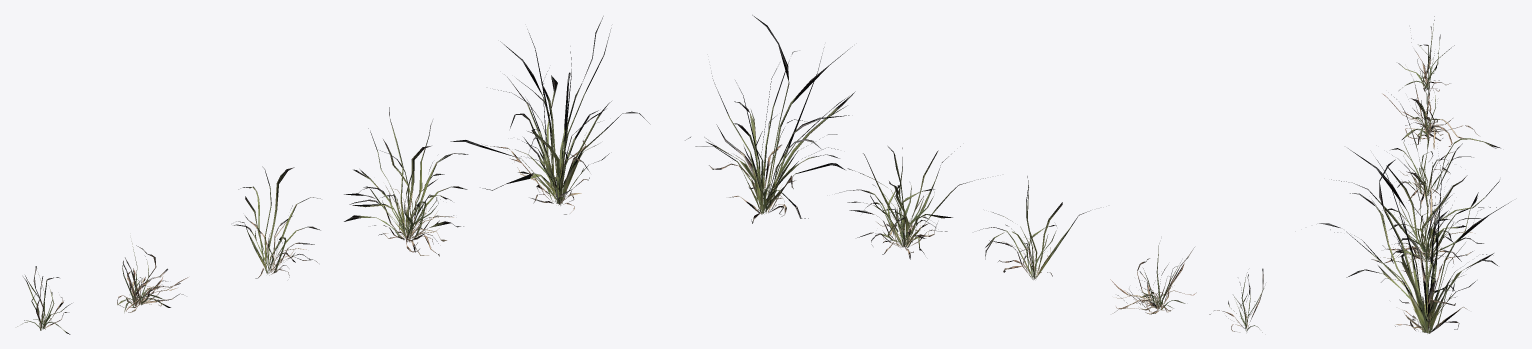
File: dry-grass.glb
3 views of the same model, side by side, from view 1: azimuth 30°, elevation 25°; view 2: azimuth 150°, elevation 25°; view 3: azimuth 270°, elevation 25° (orthographic). The views are drawn at different scales.
Visible parts, largest first — view 1: grass_medium_02_e, grass_medium_02_d, grass_medium_02_c, grass_medium_02_b, grass_medium_02_a; view 2: grass_medium_02_e, grass_medium_02_d, grass_medium_02_c, grass_medium_02_b, grass_medium_02_a; view 3: grass_medium_02_e, grass_medium_02_d, grass_medium_02_c, grass_medium_02_b, grass_medium_02_a.
Boxes of the visible parts, <box> form: grass_medium_02_e: <box>450,16,650,214</box>; grass_medium_02_d: <box>344,107,468,256</box>; grass_medium_02_c: <box>233,166,320,278</box>; grass_medium_02_b: <box>117,241,188,312</box>; grass_medium_02_a: <box>17,266,71,334</box>; grass_medium_02_e: <box>685,15,855,223</box>; grass_medium_02_d: <box>839,146,985,259</box>; grass_medium_02_c: <box>979,176,1090,279</box>; grass_medium_02_b: <box>1110,243,1196,314</box>; grass_medium_02_a: <box>1209,268,1264,332</box>; grass_medium_02_e: <box>1319,148,1511,333</box>; grass_medium_02_d: <box>1331,143,1499,272</box>; grass_medium_02_c: <box>1391,94,1500,213</box>; grass_medium_02_b: <box>1382,53,1478,149</box>; grass_medium_02_a: <box>1398,16,1454,91</box>.
Size of the model in its own units: 1.29 by 0.4053 by 0.4318.
Materials: 1 (1 with a texture image).
